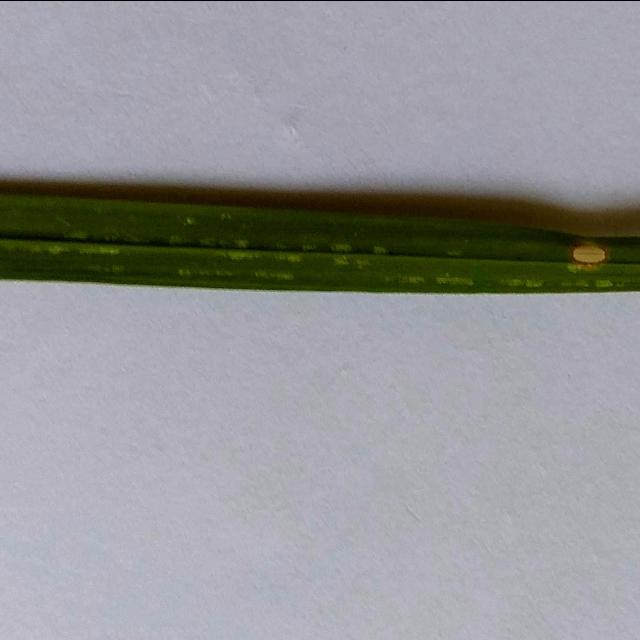Leaf_Blast: (566, 234, 616, 272)
